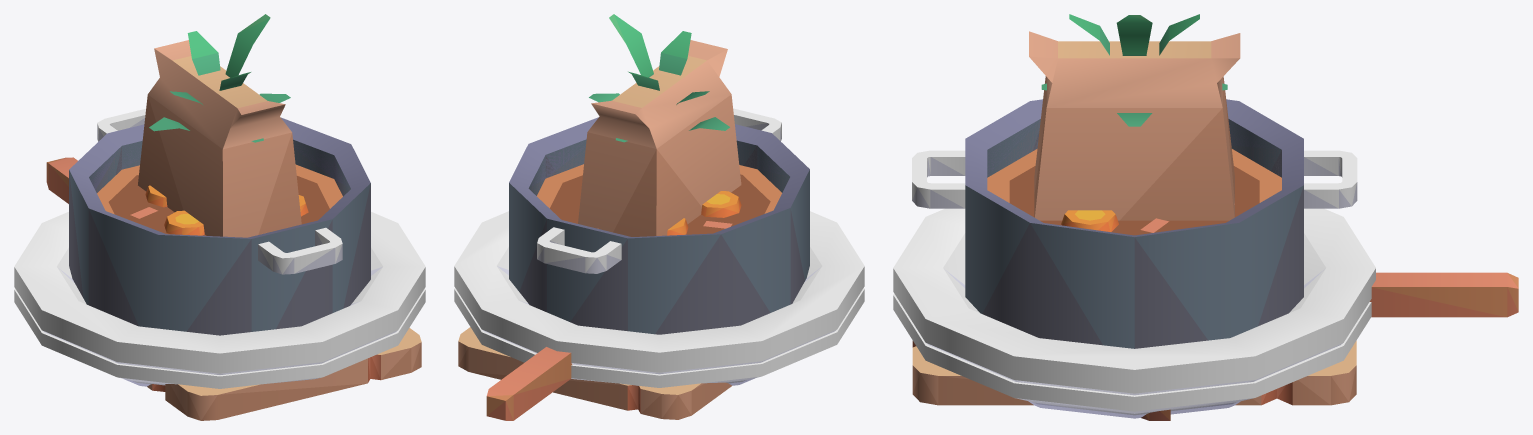
The model's file is kenney-food.glb.
3 views of the same model, side by side, from view 1: azimuth 30°, elevation 25°; view 2: azimuth 150°, elevation 25°; view 3: azimuth 270°, elevation 25° (orthographic). The views are drawn at different scales.
Visible parts, largest first — view 1: pot, plate-deep, bag, pot-stew, cutting-board, plate, carrot, frying-pan; view 2: pot, plate-deep, bag, pot-stew, cutting-board, plate, frying-pan, carrot; view 3: pot, bag, plate-deep, plate, pot-stew, frying-pan, cutting-board, carrot.
Boxes of the visible parts, <box> form: pot: <box>69,108,370,335</box>; plate-deep: <box>14,212,425,386</box>; bag: <box>138,40,301,237</box>; pot-stew: <box>89,141,350,235</box>; cutting-board: <box>147,328,421,420</box>; plate: <box>14,288,425,388</box>; carrot: <box>149,14,290,142</box>; frying-pan: <box>46,157,77,203</box>; pot: <box>509,108,809,334</box>; plate-deep: <box>454,211,864,385</box>; bag: <box>578,40,741,236</box>; pot-stew: <box>529,141,789,235</box>; cutting-board: <box>458,327,731,419</box>; plate: <box>454,288,864,387</box>; frying-pan: <box>486,347,572,420</box>; carrot: <box>589,14,729,142</box>; pot: <box>912,99,1357,348</box>; bag: <box>1029,31,1240,220</box>; plate-deep: <box>893,208,1375,418</box>; plate: <box>893,293,1371,415</box>; pot-stew: <box>987,119,1281,235</box>; frying-pan: <box>1370,272,1518,317</box>; cutting-board: <box>912,341,1356,405</box>; carrot: <box>1041,14,1227,126</box>.
Bounding box in the file's own units: 0.8918 × 0.7163 × 1.16.
